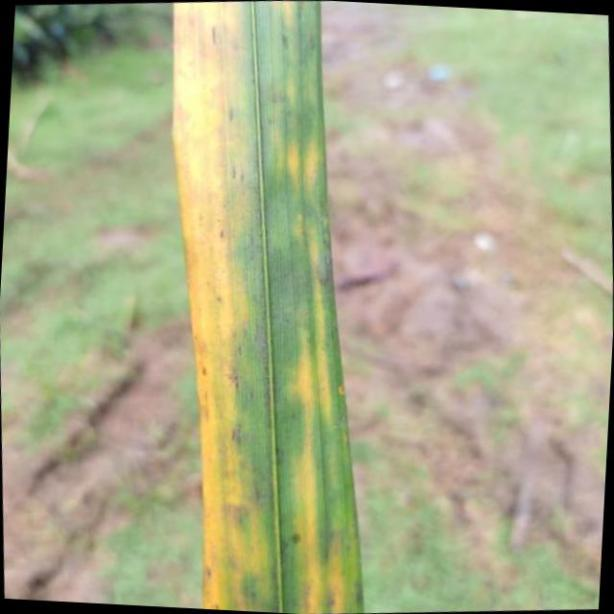Megnesium: (166, 3, 365, 614)
